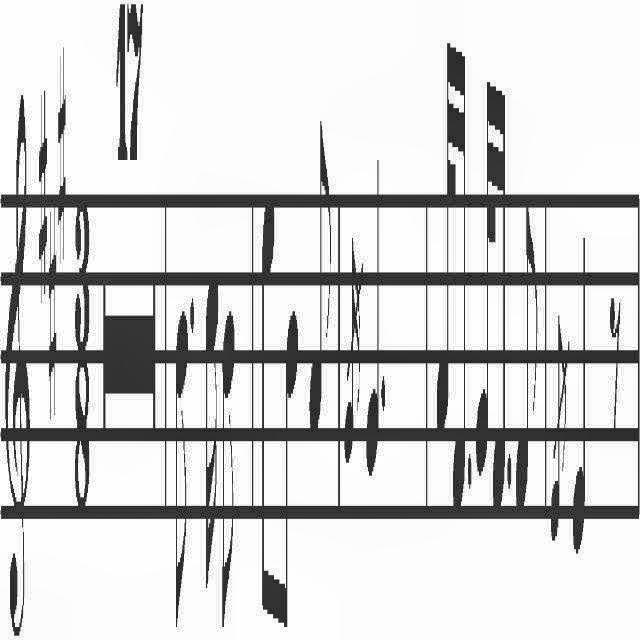Bass-clef: (1, 52, 31, 640)
Diez: (54, 60, 70, 244), (46, 180, 58, 424), (37, 98, 47, 302)
Eighth-note: (308, 80, 334, 492), (256, 154, 276, 640), (218, 284, 242, 640), (516, 184, 540, 520), (171, 292, 189, 640), (282, 274, 298, 638)
Eighth-rest: (608, 282, 624, 434)
Quarter-note: (568, 222, 590, 576), (366, 104, 380, 524)
Sixteenth-note: (202, 258, 220, 622), (454, 15, 466, 513), (494, 61, 506, 516)
